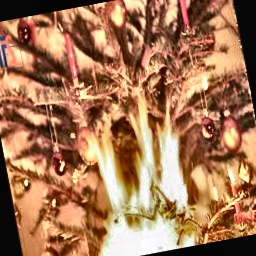fire: (73, 100, 217, 256)
